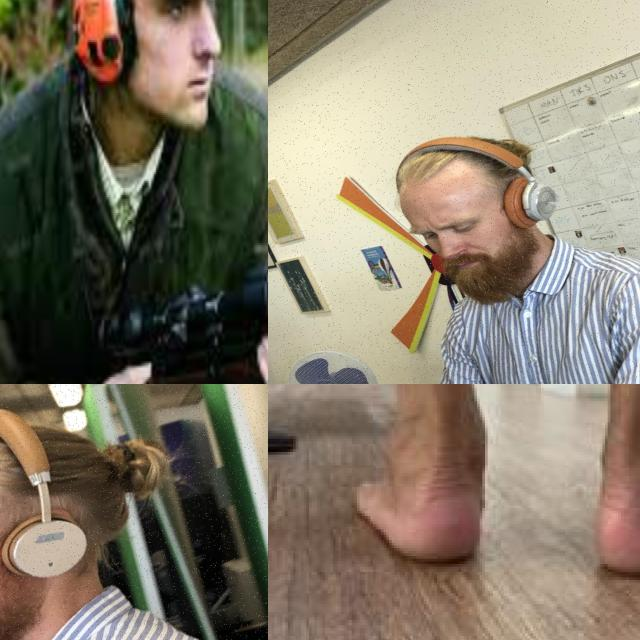Barefoots: (332, 420, 512, 562), (594, 437, 640, 606)
Ear-protection: (370, 114, 590, 319), (74, 0, 218, 127), (0, 495, 107, 599)
